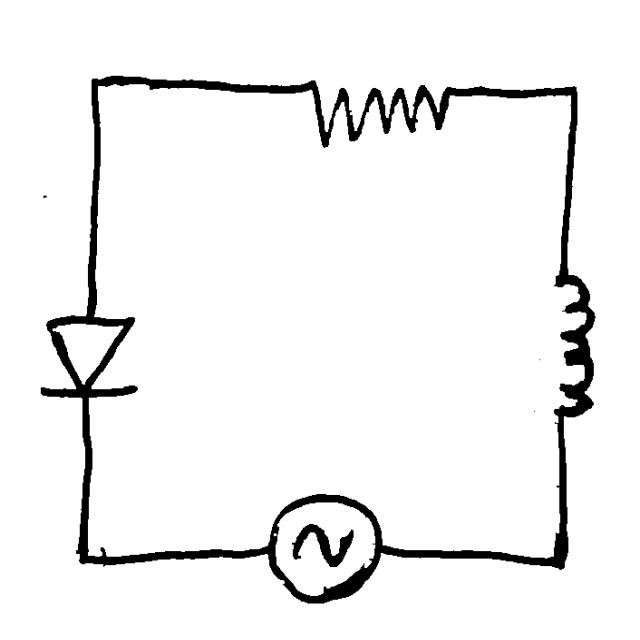diode: (24, 303, 150, 411)
inductor: (262, 480, 392, 612), (532, 262, 608, 434)
resistor: (291, 63, 461, 156)
